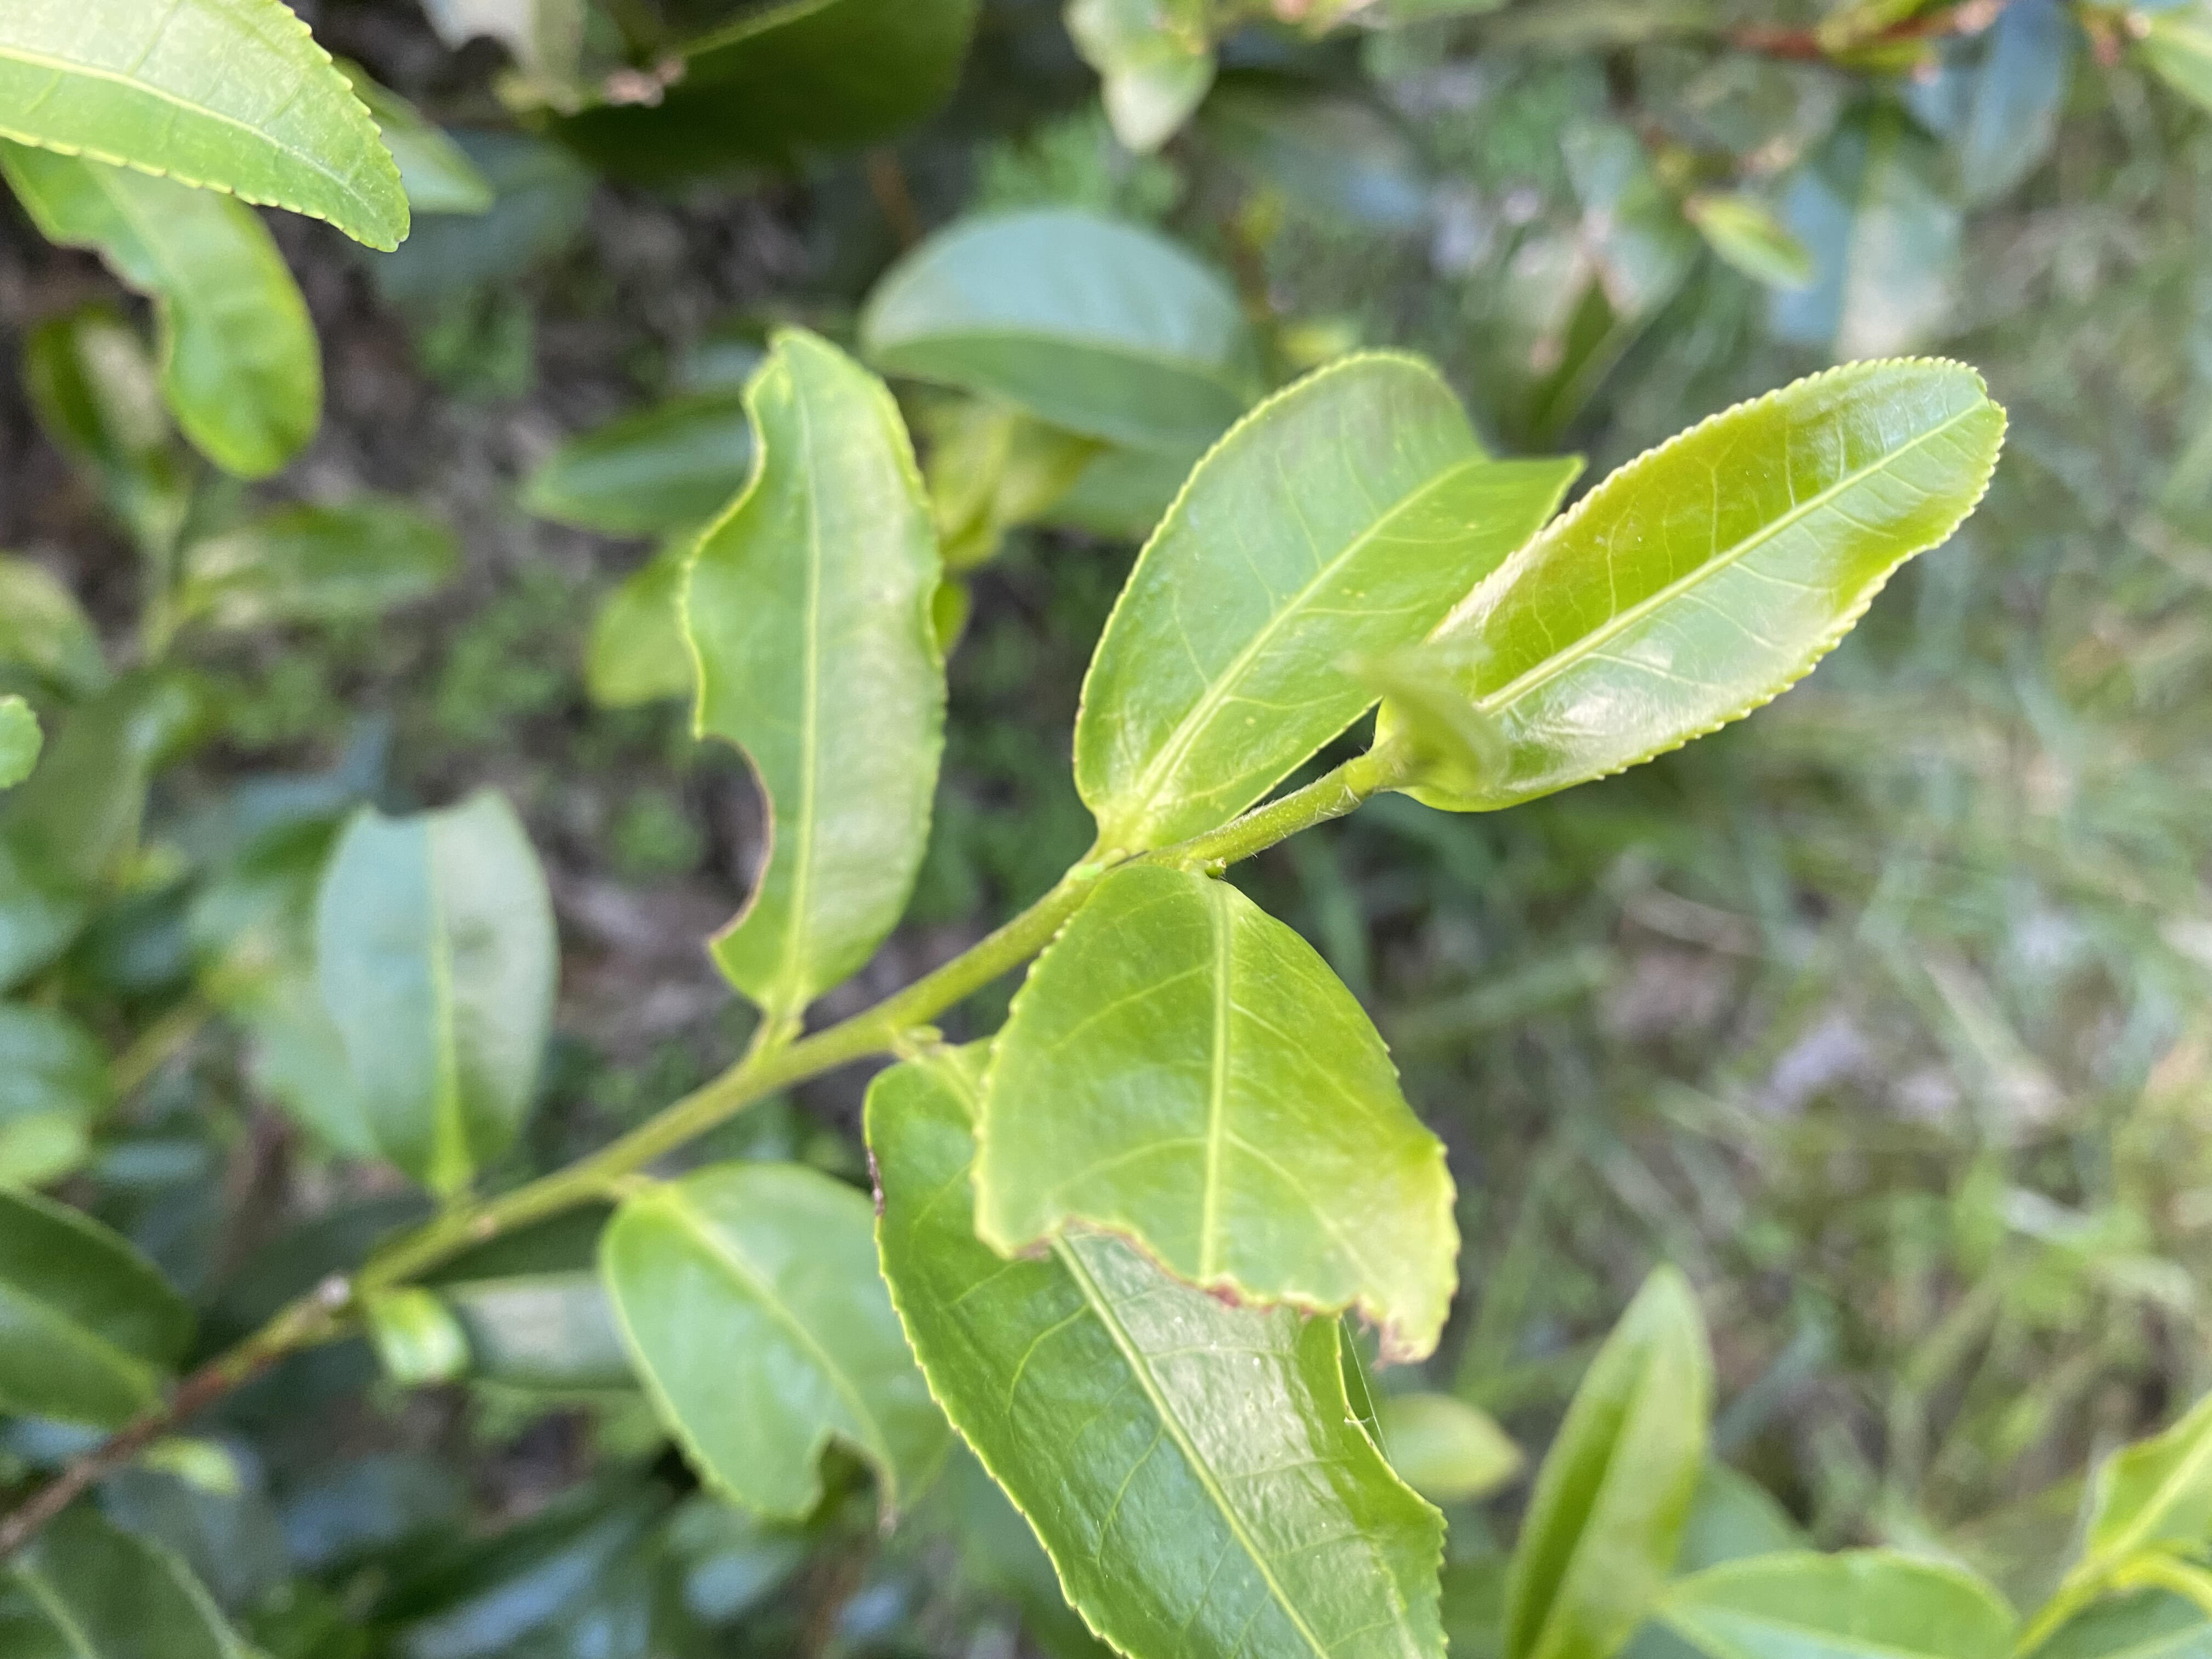chihuo_high: (970, 866, 1467, 1370), (672, 321, 953, 1016)
chihuo_low: (599, 1150, 958, 1530), (308, 779, 564, 1194)
healthy: (1369, 350, 2013, 817), (1066, 345, 1592, 852)
